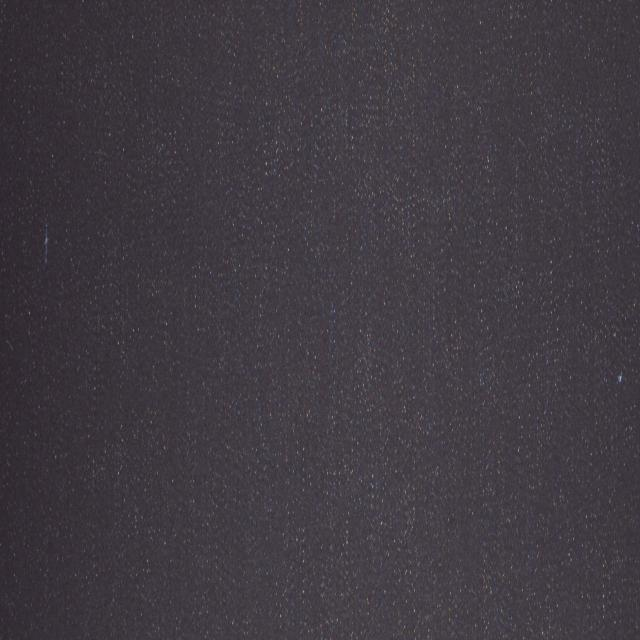Knot: (44, 220, 50, 265), (616, 370, 624, 384)
